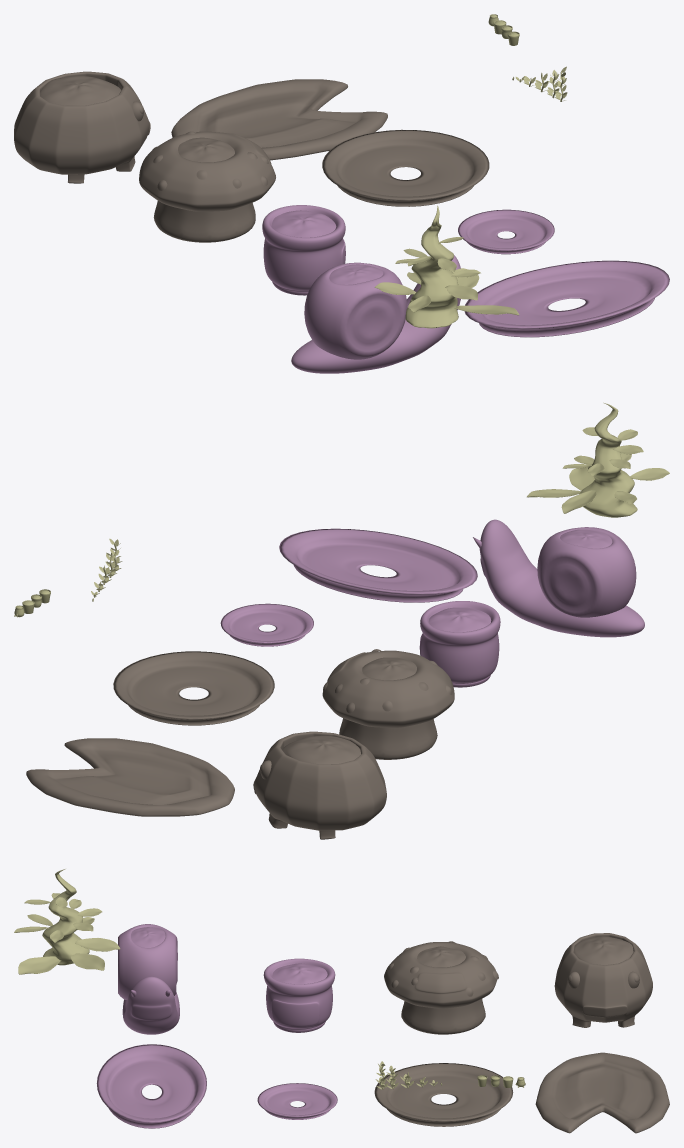
Rendered from Project_Growth_Models_PivotUpdate.fbx.
3 renders of one model, top to bottom at view 1: azimuth 30°, elevation 25°; view 2: azimuth 150°, elevation 25°; view 3: azimuth 270°, elevation 25°, orthographic. The views are drawn at different scales.
Visible parts, largest first — view 1: tray_snail, polySurface61, tray_frog, tray_mushroom, polySurface68, polySurface105, mainplant, pTorus1, polySurface106, tray_normalpot, polySurface66, polySurface97 (+2 smaller); view 2: tray_frog, tray_snail, polySurface61, tray_mushroom, polySurface68, polySurface105, polySurface106, mainplant, pTorus1, tray_normalpot, polySurface66, polySurface97 (+2 smaller); view 3: tray_frog, tray_snail, polySurface61, tray_mushroom, polySurface68, mainplant, pTorus1, polySurface105, polySurface106, tray_normalpot, polySurface66, polySurface97 (+2 smaller).
Part boxes in pixels (<box>): tray_snail: <box>464,260,669,337</box>; polySurface61: <box>139,131,275,242</box>; tray_frog: <box>171,79,387,160</box>; tray_mushroom: <box>322,129,489,206</box>; polySurface68: <box>14,71,150,183</box>; polySurface105: <box>304,262,407,359</box>; mainplant: <box>374,205,519,328</box>; pTorus1: <box>262,205,345,295</box>; polySurface106: <box>291,255,460,373</box>; tray_normalpot: <box>458,209,554,254</box>; polySurface66: <box>40,76,121,105</box>; polySurface97: <box>272,210,336,237</box>; tray_frog: <box>26,738,234,816</box>; tray_snail: <box>279,528,477,602</box>; polySurface61: <box>322,650,454,759</box>; tray_mushroom: <box>113,651,274,725</box>; polySurface68: <box>253,731,386,839</box>; polySurface105: <box>537,527,636,617</box>; polySurface106: <box>479,519,644,637</box>; mainplant: <box>527,402,669,517</box>; pTorus1: <box>419,601,500,687</box>; tray_normalpot: <box>220,603,313,646</box>; polySurface66: <box>282,735,360,764</box>; polySurface97: <box>429,607,491,632</box>; tray_frog: <box>535,1052,669,1133</box>; tray_snail: <box>96,1044,206,1128</box>; polySurface61: <box>384,942,497,1034</box>; tray_mushroom: <box>374,1063,513,1126</box>; polySurface68: <box>554,933,652,1027</box>; mainplant: <box>14,869,120,974</box>; pTorus1: <box>263,958,335,1032</box>; polySurface105: <box>118,924,177,999</box>; polySurface106: <box>122,976,179,1034</box>; tray_normalpot: <box>257,1083,337,1119</box>; polySurface66: <box>574,936,633,965</box>; polySurface97: <box>272,963,327,984</box>.
Bounding box in the file's own units: 6.72 × 2.96 × 10.76.
